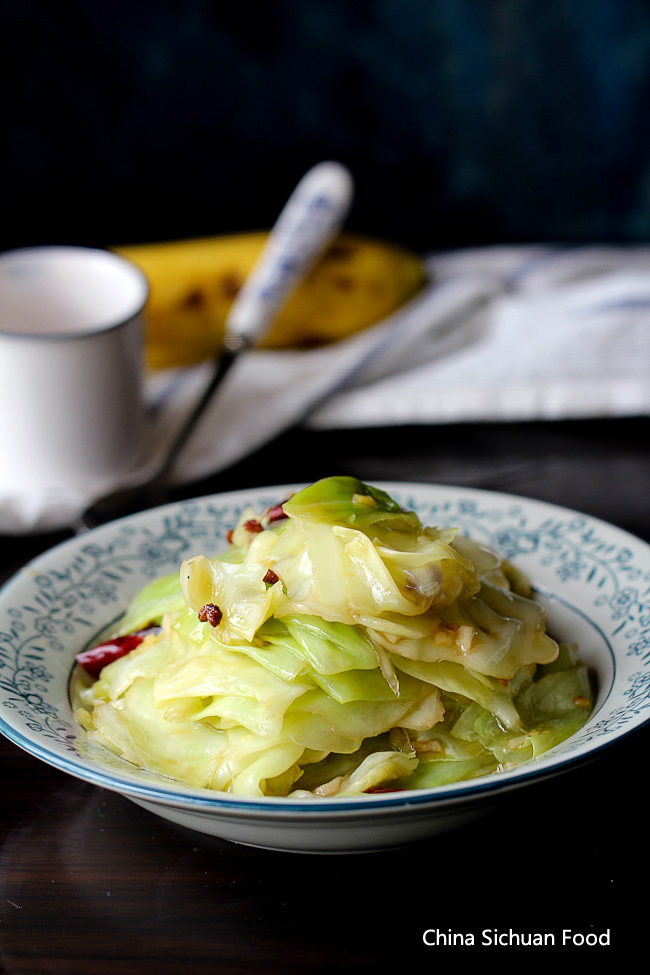chinese_cabbage: (130, 526, 540, 773), (239, 682, 513, 790), (251, 630, 492, 746), (79, 650, 289, 774), (407, 573, 567, 722), (275, 504, 458, 624), (147, 579, 318, 684)
